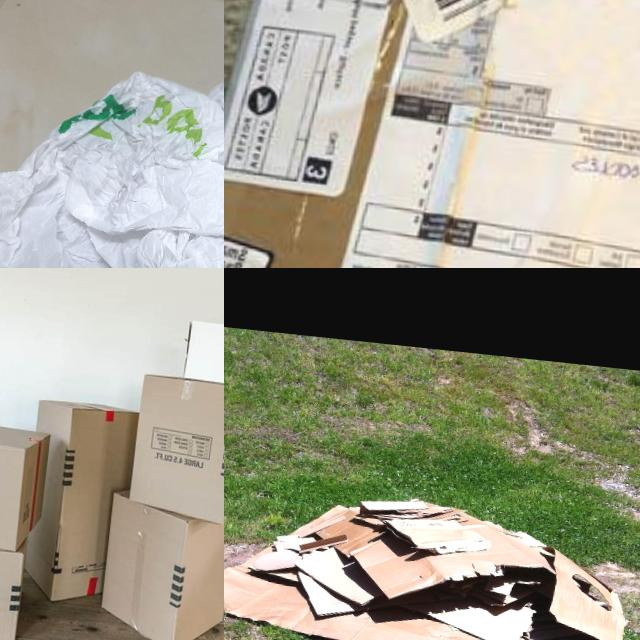papelão: (224, 0, 640, 268), (224, 473, 634, 640), (16, 396, 140, 610), (95, 488, 224, 640), (125, 371, 224, 528), (0, 415, 53, 553), (0, 527, 27, 640)
sacola plástica: (0, 0, 224, 268)
